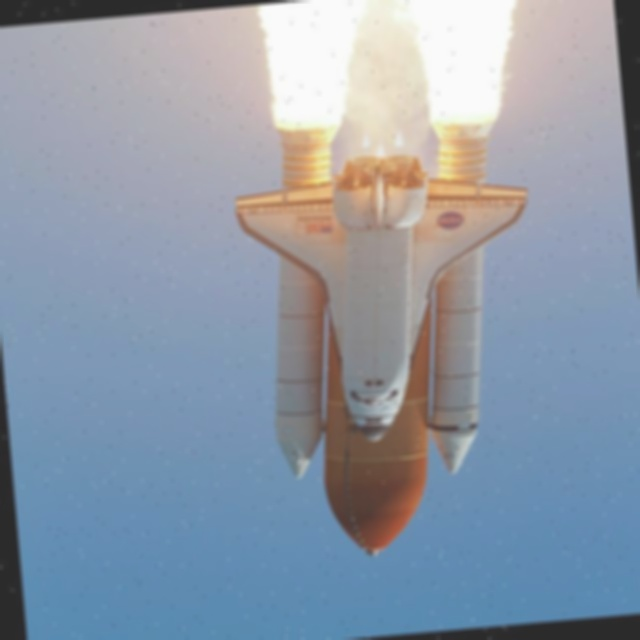rocket: (225, 125, 541, 451)
